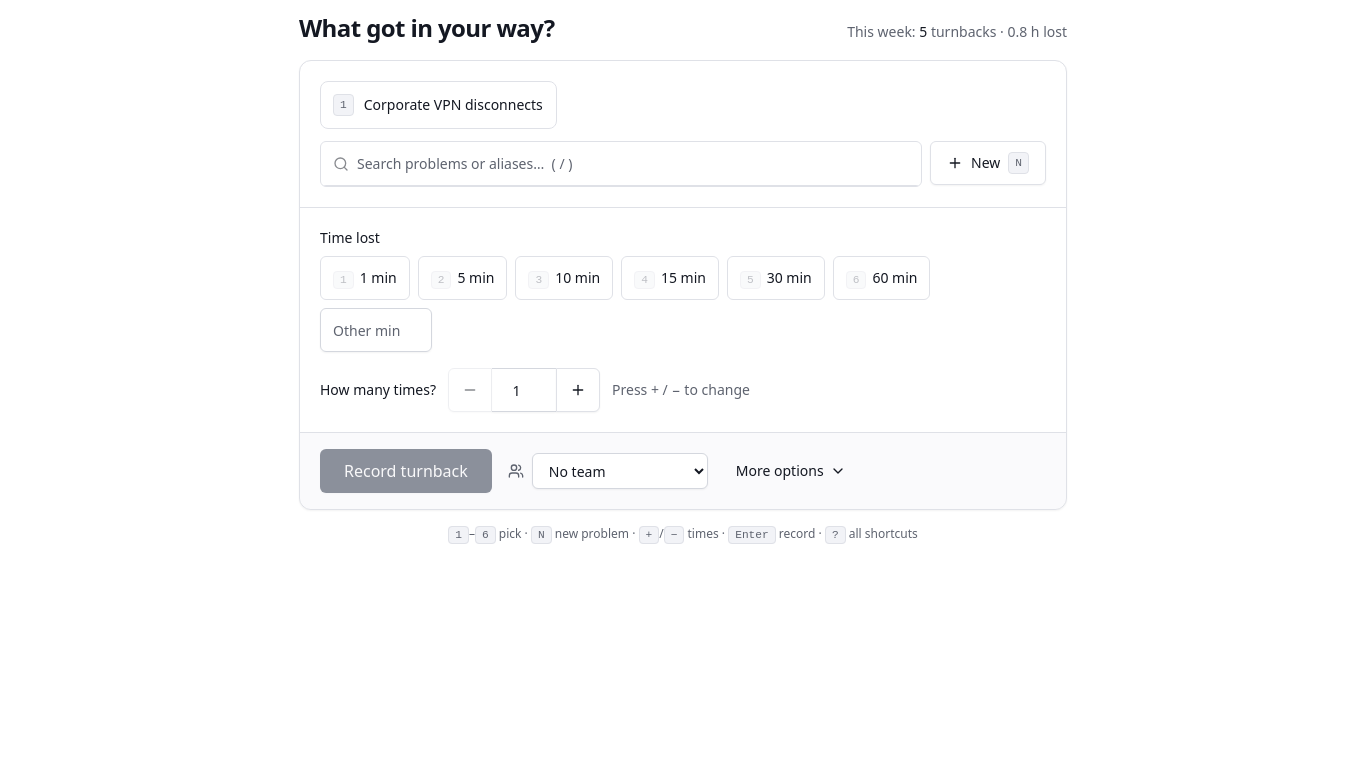
Scenario: RecordPage › queues the report on the device when the server is unreachable
What coordinates should you click on to do the following:
click the button "1 Corporate VPN disconnects"
I would click on:
 (438, 105)
Its box is [320,81,557,129].
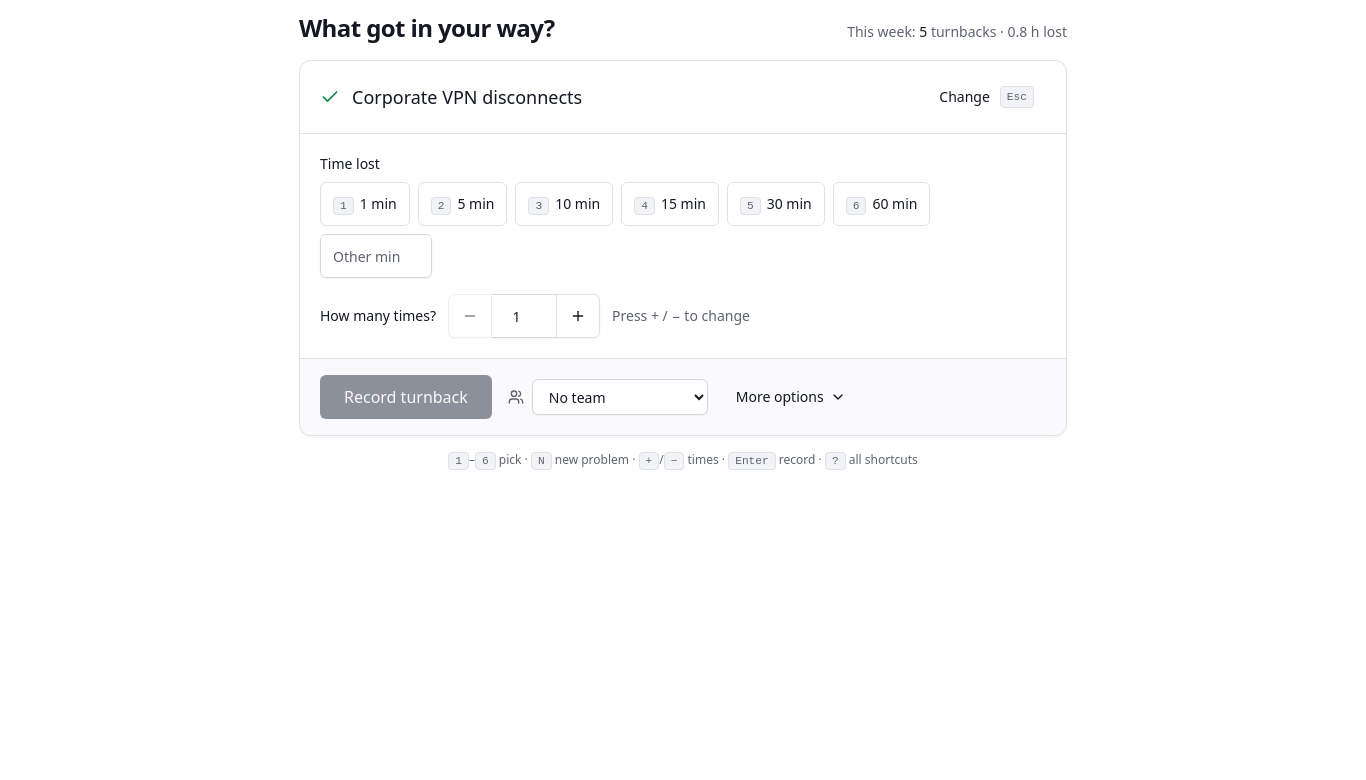
What coordinates should you click on to do the following:
click the radio button labelled "5 min"
I would click on:
 (463, 204)
Its box is [418,182,507,226].
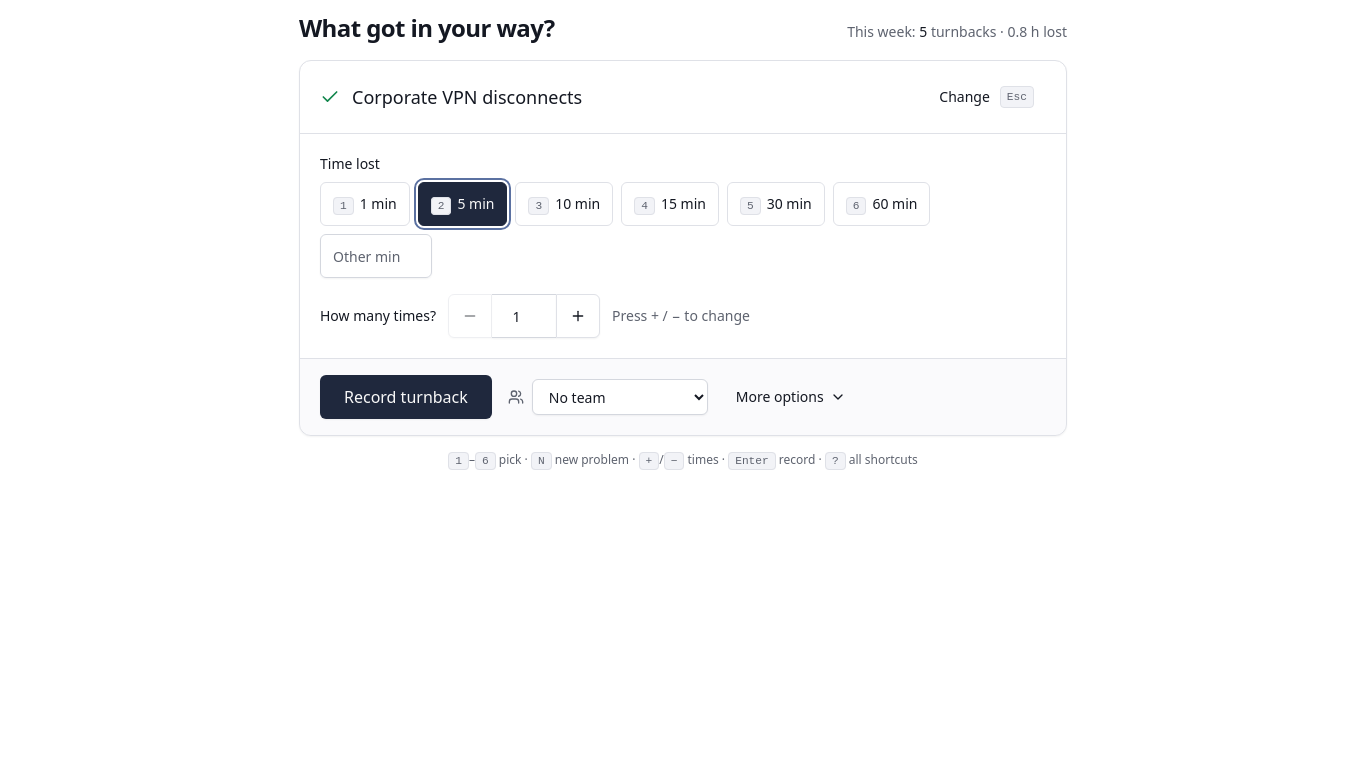
What coordinates should you click on to do the following:
click the button with test id "submit-turnback"
I would click on:
 (406, 397)
Its box is [320,375,492,419].
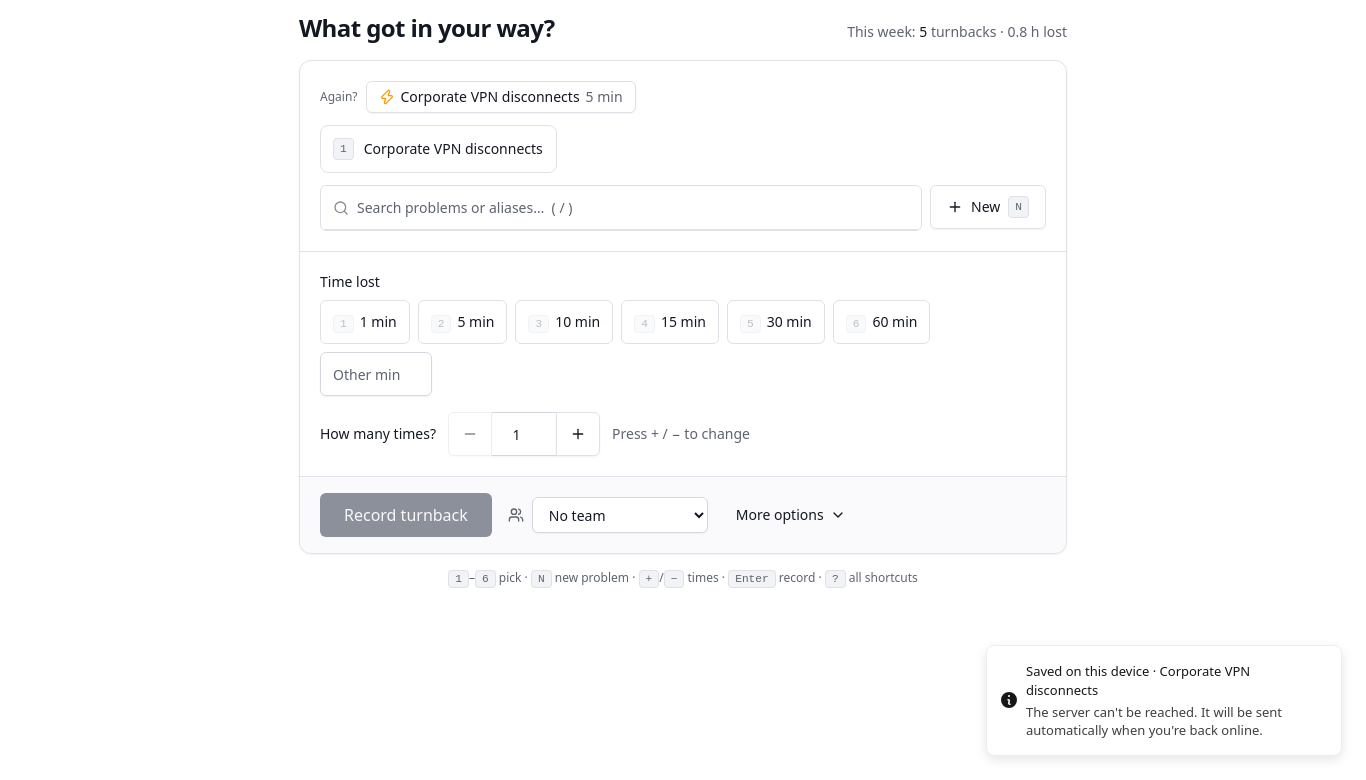
Result: the text "Saved on this device · Corporate VPN disconnects" is shown at [1026,662,1250,699]
